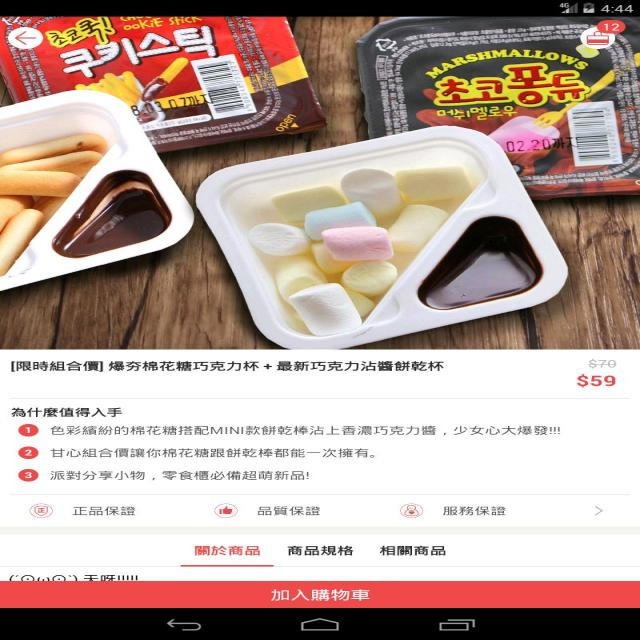button: (3, 582, 640, 606), (192, 494, 338, 527), (390, 496, 529, 529), (22, 498, 153, 524), (180, 540, 275, 567), (369, 540, 458, 564), (286, 539, 358, 565), (574, 19, 628, 52), (5, 22, 44, 52), (586, 500, 618, 524)
heading: (5, 402, 125, 420)
image: (0, 15, 640, 350), (210, 501, 241, 520), (25, 502, 57, 520), (399, 498, 424, 520), (16, 422, 40, 439), (16, 444, 40, 459), (18, 469, 40, 482)
text: (50, 423, 568, 442), (7, 358, 450, 378), (49, 446, 377, 462), (46, 467, 311, 483), (570, 360, 637, 391), (438, 502, 510, 520), (66, 504, 140, 520), (251, 502, 325, 518)
